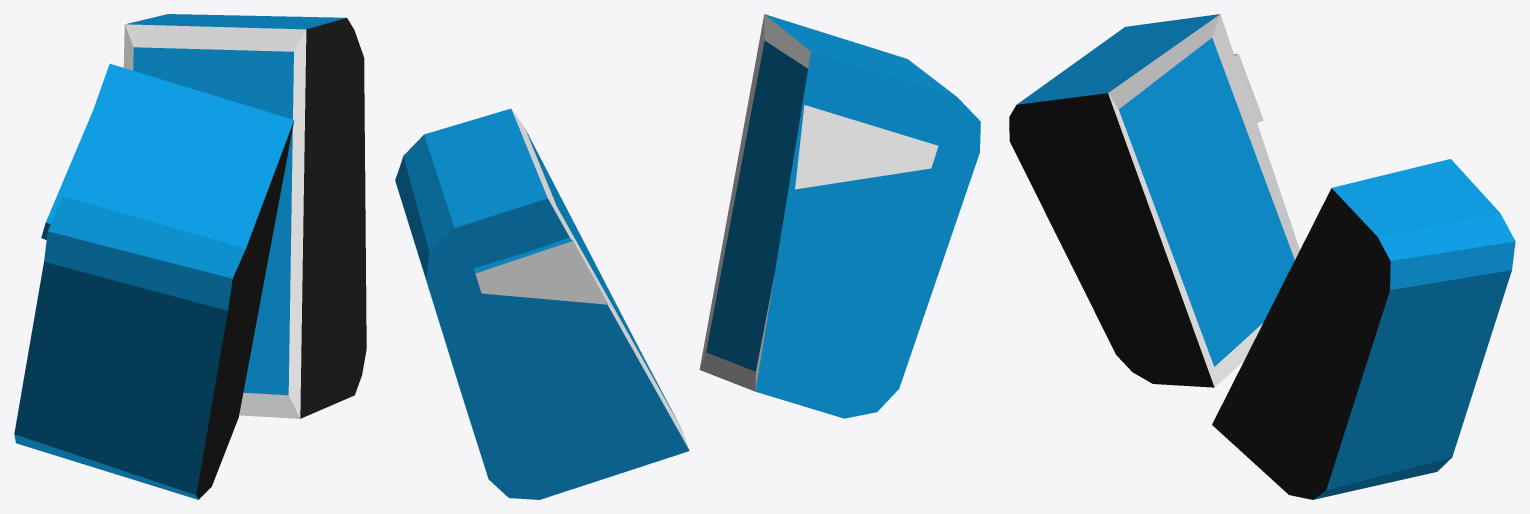
Rendered from blueblock_sliced.fbx.
3 views of the same model, side by side, from view 1: azimuth 30°, elevation 25°; view 2: azimuth 150°, elevation 25°; view 3: azimuth 270°, elevation 25° (orthographic). The views are drawn at different scales.
Visible parts, largest first — view 1: group_1736062833, group_786695164; view 2: group_1736062833, group_786695164; view 3: group_1736062833, group_786695164.
Boxes of the visible parts, x1,y1,x2,y2 form: group_1736062833: [14, 63, 294, 499]; group_786695164: [123, 14, 366, 418]; group_1736062833: [699, 14, 980, 418]; group_786695164: [395, 108, 689, 499]; group_1736062833: [1009, 14, 1299, 387]; group_786695164: [1212, 159, 1515, 499].
Bounding box in the file's own units: 26.66 × 23.95 × 28.87.
